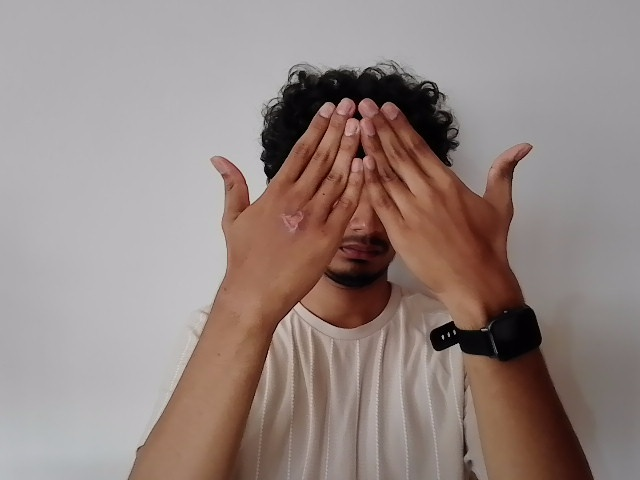thankyou: (191, 94, 547, 322)
